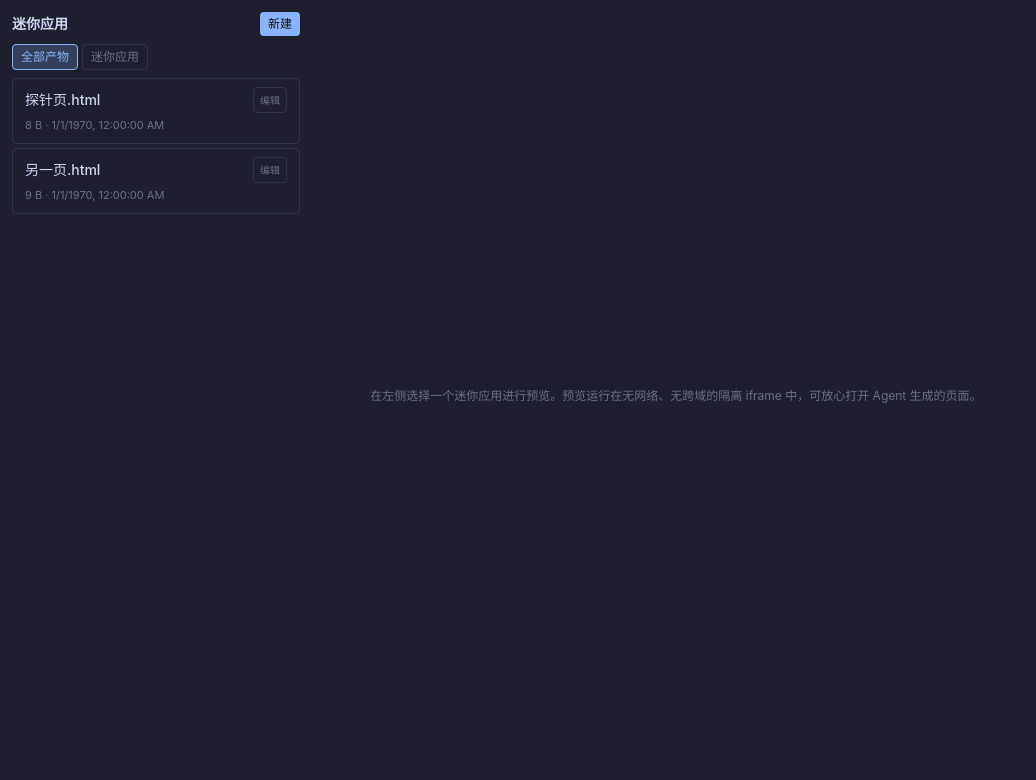
it: ① 沙箱预览那一发：三种到货要分得开 › 回 null（文件真没了）⇒ 仍是既有那句「文件不存在」，不混进"读不到"这一档
Click the button "探针页.html".
click(135, 100)  # box [25,90,245,110]
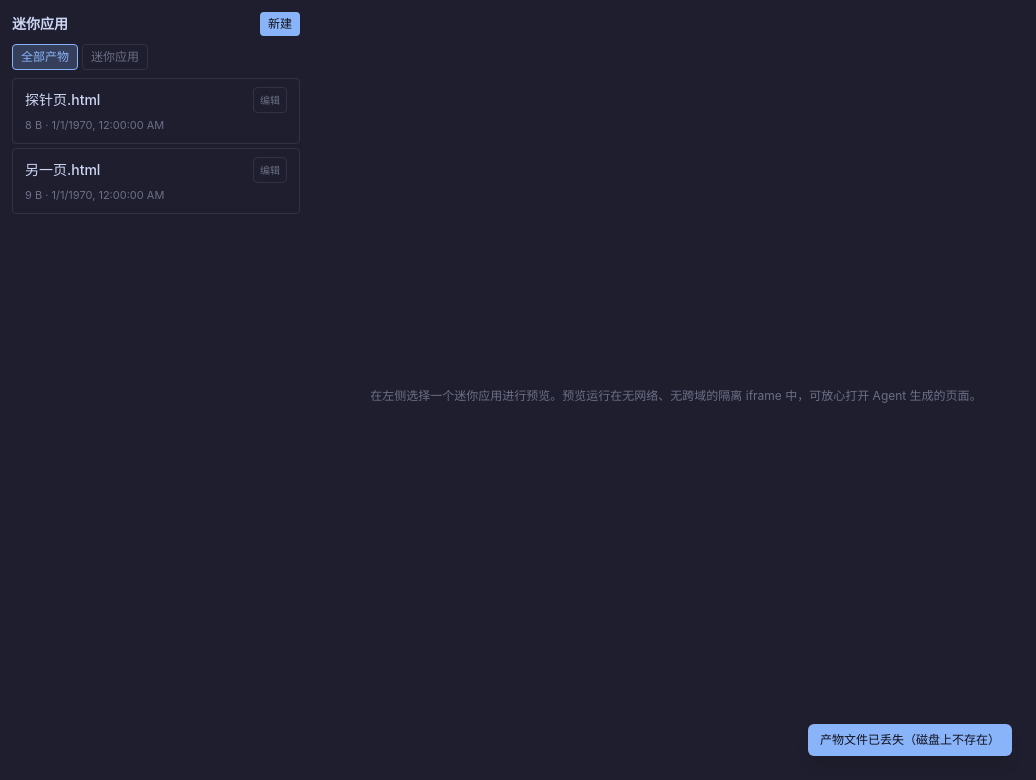
Expected: the text "产物文件已丢失（磁盘上不存在）" is shown, [808,724,1012,756]
